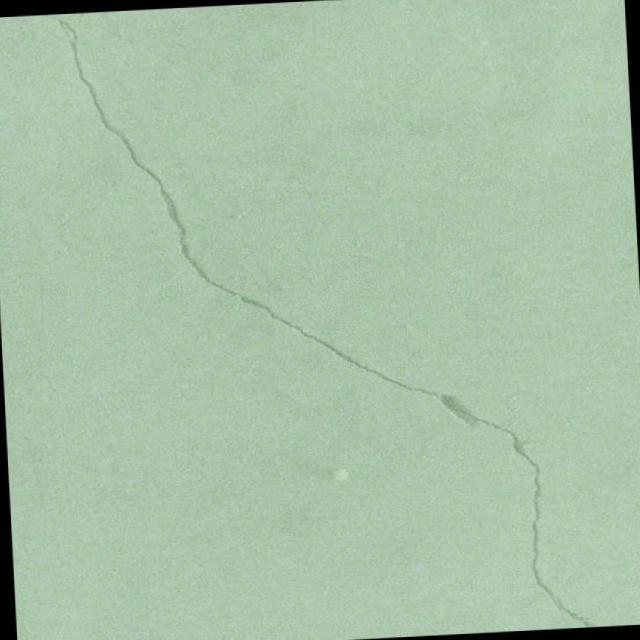crack: (44, 0, 594, 640), (76, 12, 82, 31)
